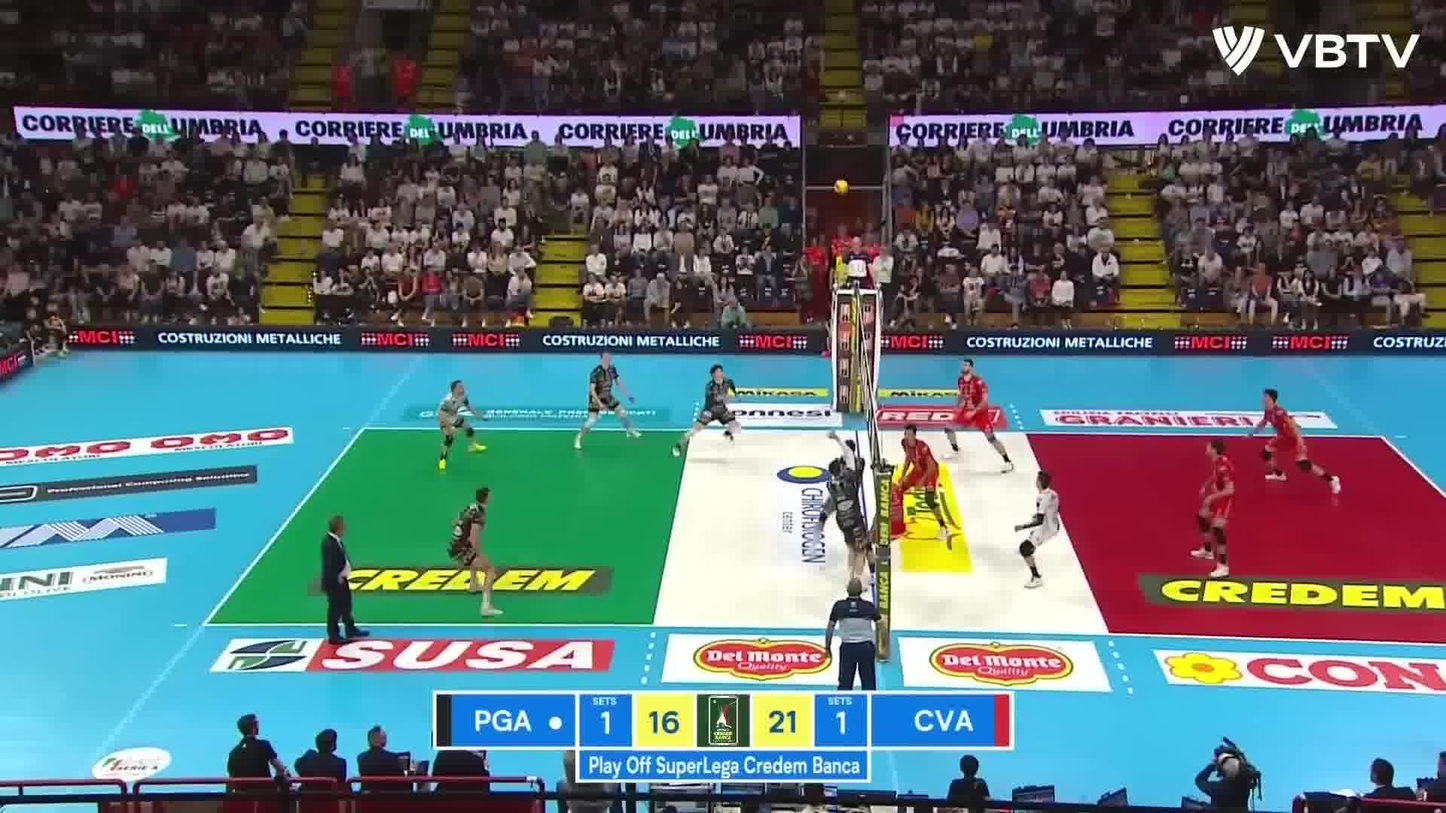balls: (831, 178, 854, 196)
